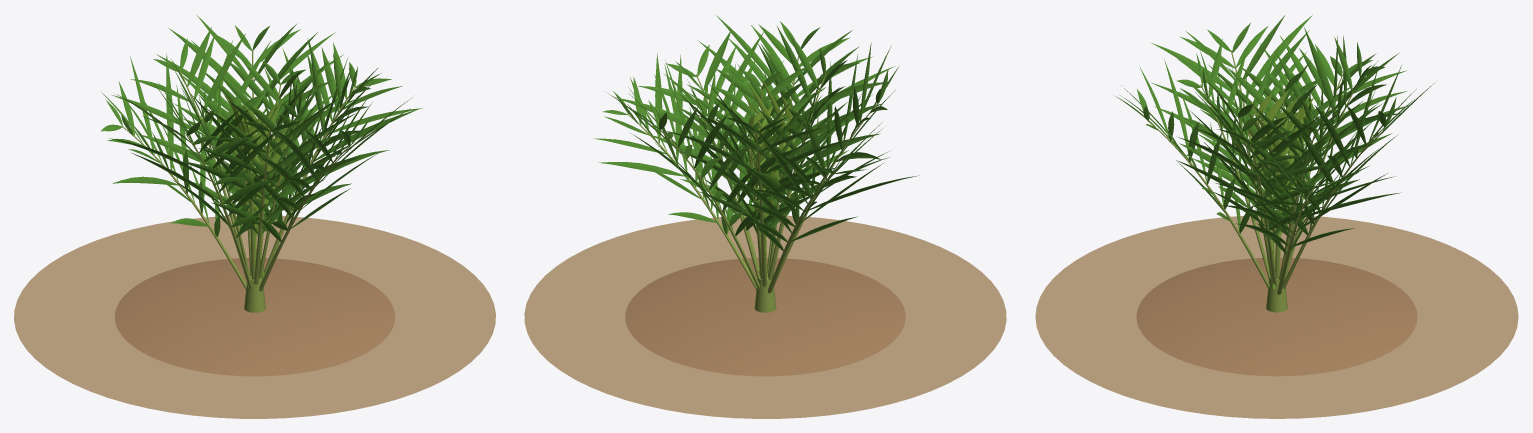
Rendered from kelapa-sawit-tb0.glb.
3 renders of one model, left to right at view 1: azimuth 30°, elevation 25°; view 2: azimuth 150°, elevation 25°; view 3: azimuth 270°, elevation 25°, orthographic.
Parts seen in each view (by area): view 1: tanah_olah, piringan, anak_daun_7, anak_daun_10, anak_daun_14, anak_daun_13, anak_daun_11, anak_daun_8, anak_daun_12, anak_daun_6, anak_daun_9, anak_daun_4 (+9 smaller); view 2: tanah_olah, piringan, anak_daun_13, anak_daun_8, anak_daun_14, anak_daun_12, anak_daun_7, anak_daun_9, anak_daun_11, anak_daun_4, anak_daun_10, anak_daun_5 (+9 smaller); view 3: tanah_olah, piringan, anak_daun_10, anak_daun_14, anak_daun_9, anak_daun_13, anak_daun_11, anak_daun_8, anak_daun_5, anak_daun_12, anak_daun_7, anak_daun_6 (+7 smaller).
Boxes of the visible parts, <box> form: tanah_olah: <box>14,215,495,418</box>; piringan: <box>114,258,395,376</box>; anak_daun_7: <box>178,86,356,233</box>; anak_daun_10: <box>110,83,280,237</box>; anak_daun_14: <box>264,38,422,224</box>; anak_daun_13: <box>101,54,220,237</box>; anak_daun_11: <box>156,15,343,208</box>; anak_daun_8: <box>112,27,270,217</box>; anak_daun_12: <box>251,95,412,241</box>; anak_daun_6: <box>198,59,356,216</box>; anak_daun_9: <box>264,38,370,221</box>; anak_daun_4: <box>225,67,330,231</box>; tanah_olah: <box>524,215,1006,418</box>; piringan: <box>625,258,905,376</box>; anak_daun_13: <box>738,122,918,250</box>; anak_daun_8: <box>665,83,847,231</box>; anak_daun_14: <box>594,53,734,234</box>; anak_daun_12: <box>697,15,894,199</box>; anak_daun_7: <box>737,25,887,216</box>; anak_daun_9: <box>615,29,784,219</box>; anak_daun_11: <box>608,60,758,235</box>; anak_daun_4: <box>676,65,839,213</box>; anak_daun_10: <box>791,43,899,224</box>; anak_daun_5: <box>729,74,872,230</box>; tanah_olah: <box>1035,216,1518,418</box>; piringan: <box>1136,257,1417,376</box>; anak_daun_10: <box>1151,15,1312,198</box>; anak_daun_14: <box>1214,130,1401,254</box>; anak_daun_9: <box>1176,92,1334,239</box>; anak_daun_13: <box>1259,36,1408,221</box>; anak_daun_11: <box>1290,65,1434,234</box>; anak_daun_8: <box>1274,27,1400,218</box>; anak_daun_5: <box>1200,65,1358,209</box>; anak_daun_12: <box>1115,59,1253,233</box>; anak_daun_7: <box>1176,38,1281,220</box>; anak_daun_6: <box>1236,93,1378,235</box>.
Size of the model in its own units: 2.2 by 1.3 by 2.2.
